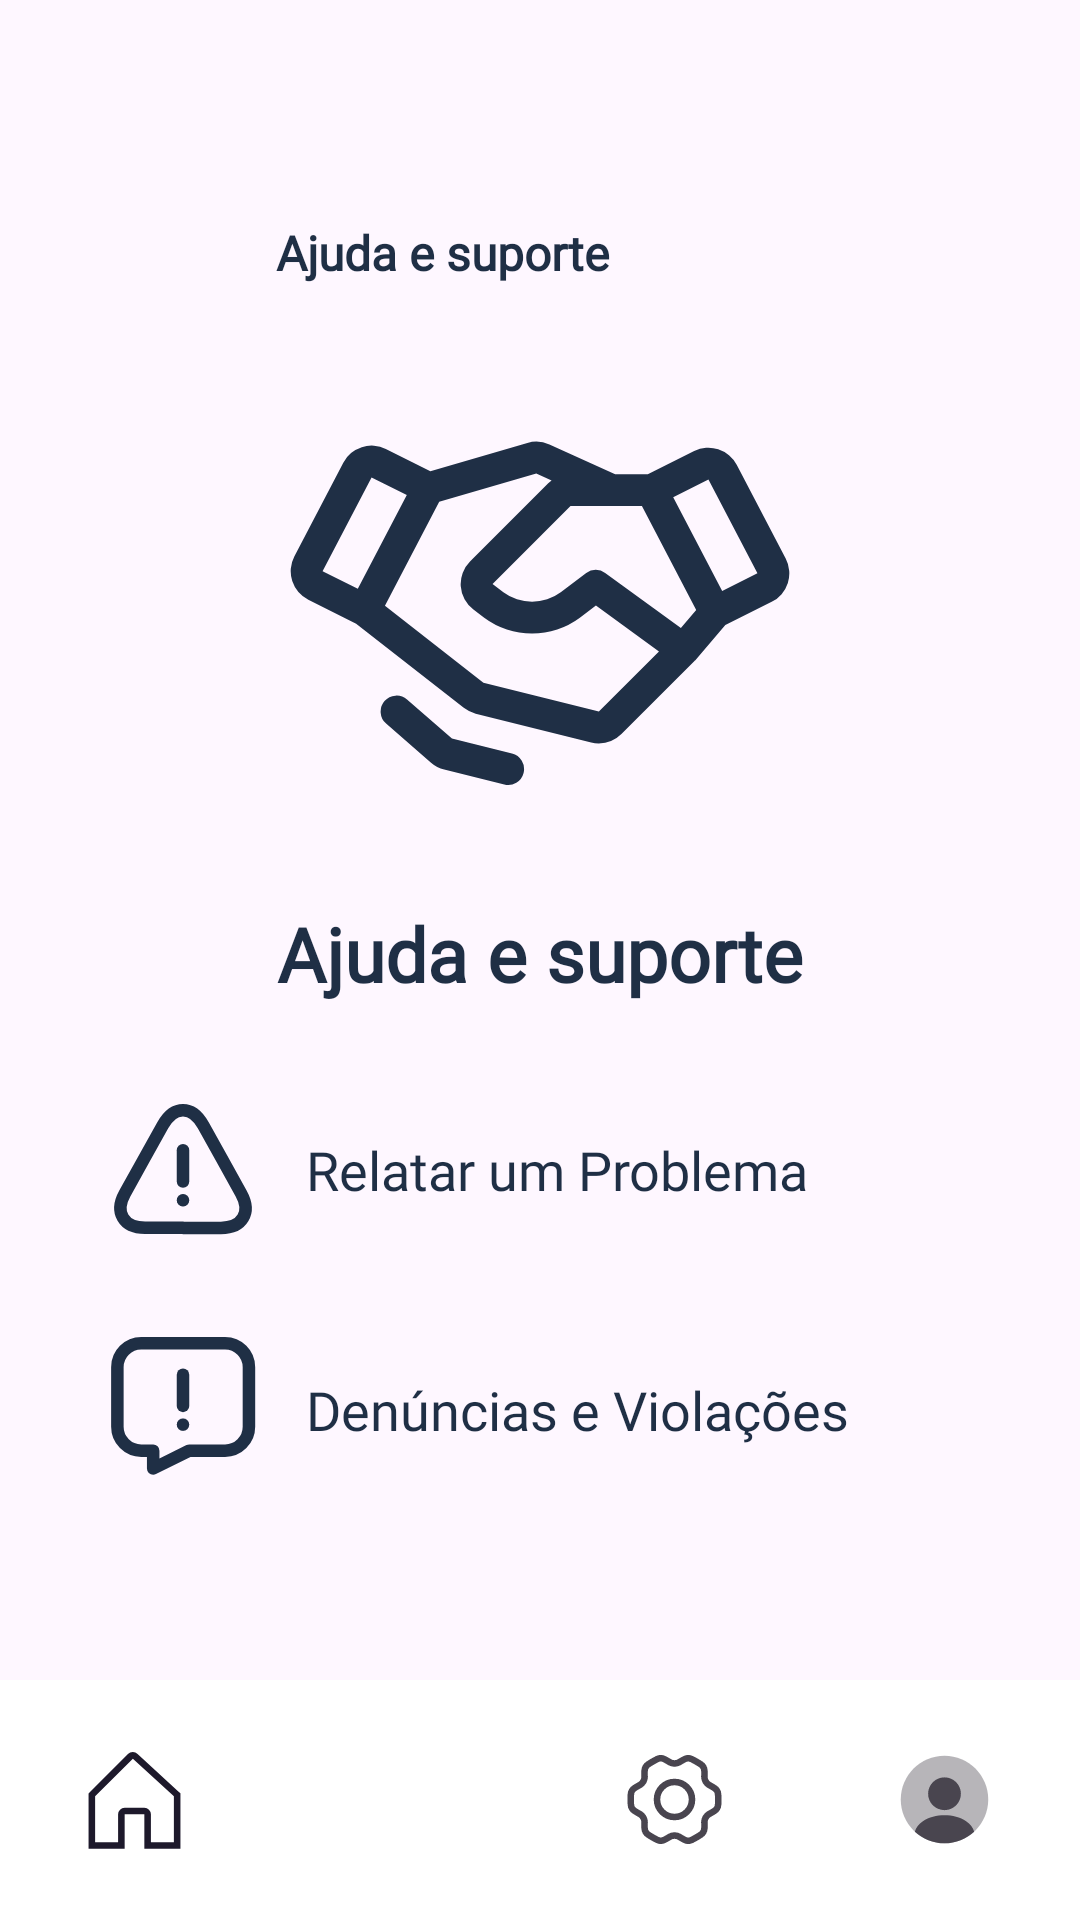

Point at icon controls on the screen. Image size 1080px x 1920px, points as (x=x, y=y).
chat exclamacao: (x=183, y=1406)
danger: (x=183, y=1169)
